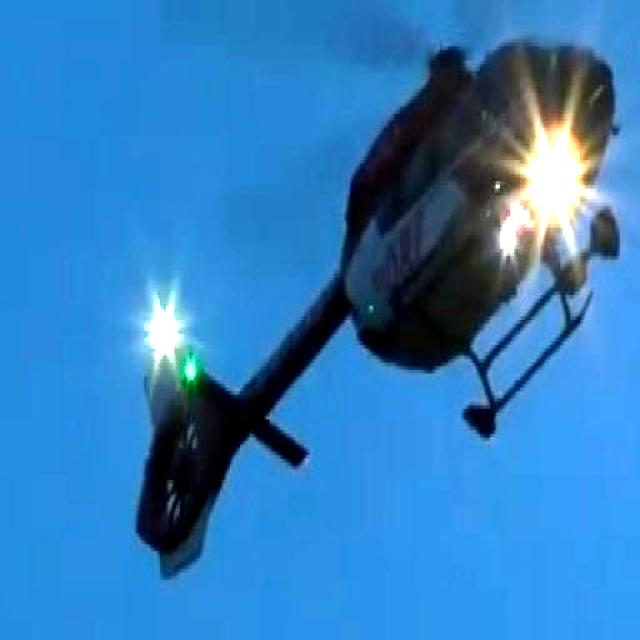drone: (130, 10, 640, 592)
